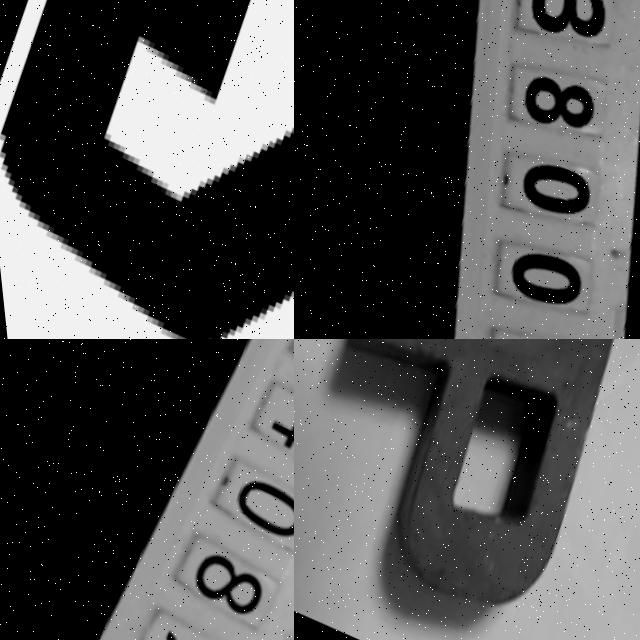0: (485, 128, 622, 242), (476, 220, 607, 332), (204, 452, 294, 555)
3: (506, 0, 635, 63)
4: (242, 379, 294, 479)
7: (466, 304, 601, 339), (122, 604, 247, 640)
8: (491, 43, 625, 157), (163, 530, 286, 632)
P: (294, 339, 640, 632)
S: (0, 0, 294, 339)
